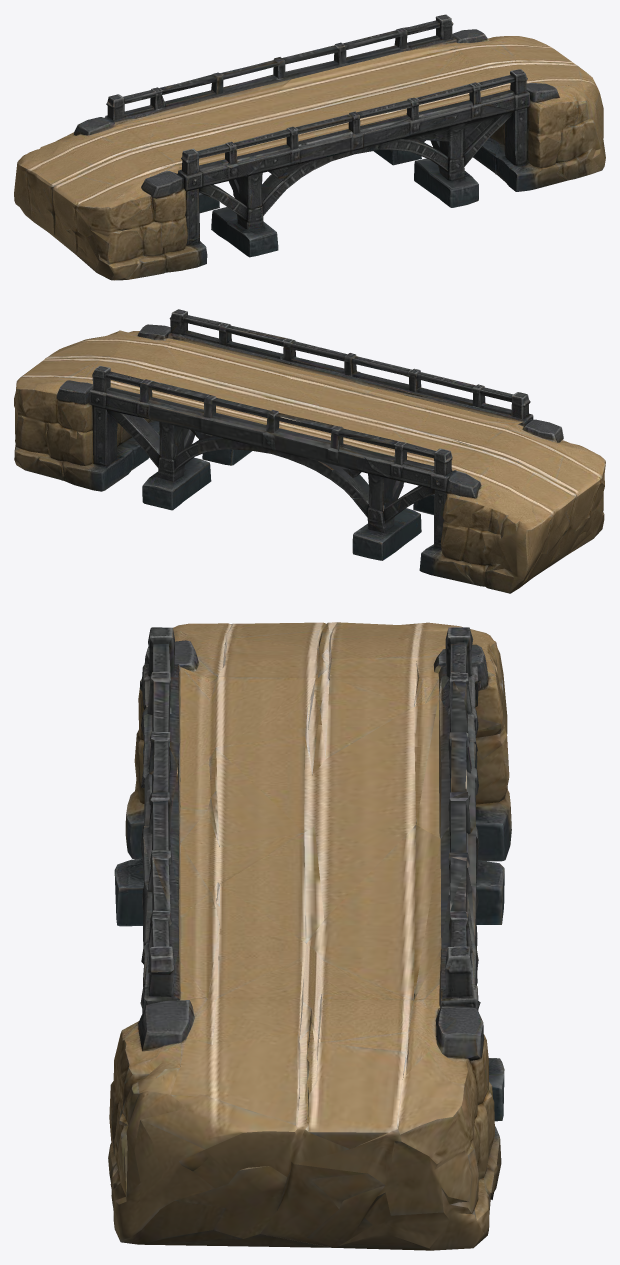
The model's file is arch-bridge.glb.
The picture shows the model from 3 angles, top to bottom: view 1: azimuth 30°, elevation 25°; view 2: azimuth 150°, elevation 25°; view 3: azimuth 270°, elevation 25°; orthographic projection. The views are drawn at different scales.
Size of the model in its own units: 1.9 by 0.3822 by 0.6361.
1 material, 1 textured.
